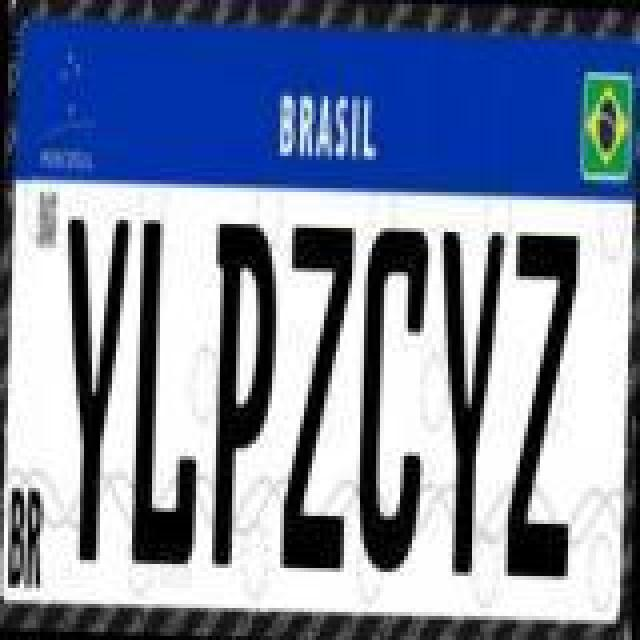C: (354, 226, 430, 574)
L: (130, 216, 206, 568)
P: (206, 222, 282, 570)
Y: (58, 216, 134, 568), (426, 228, 502, 580)
Z: (282, 224, 358, 576), (506, 232, 582, 584)
